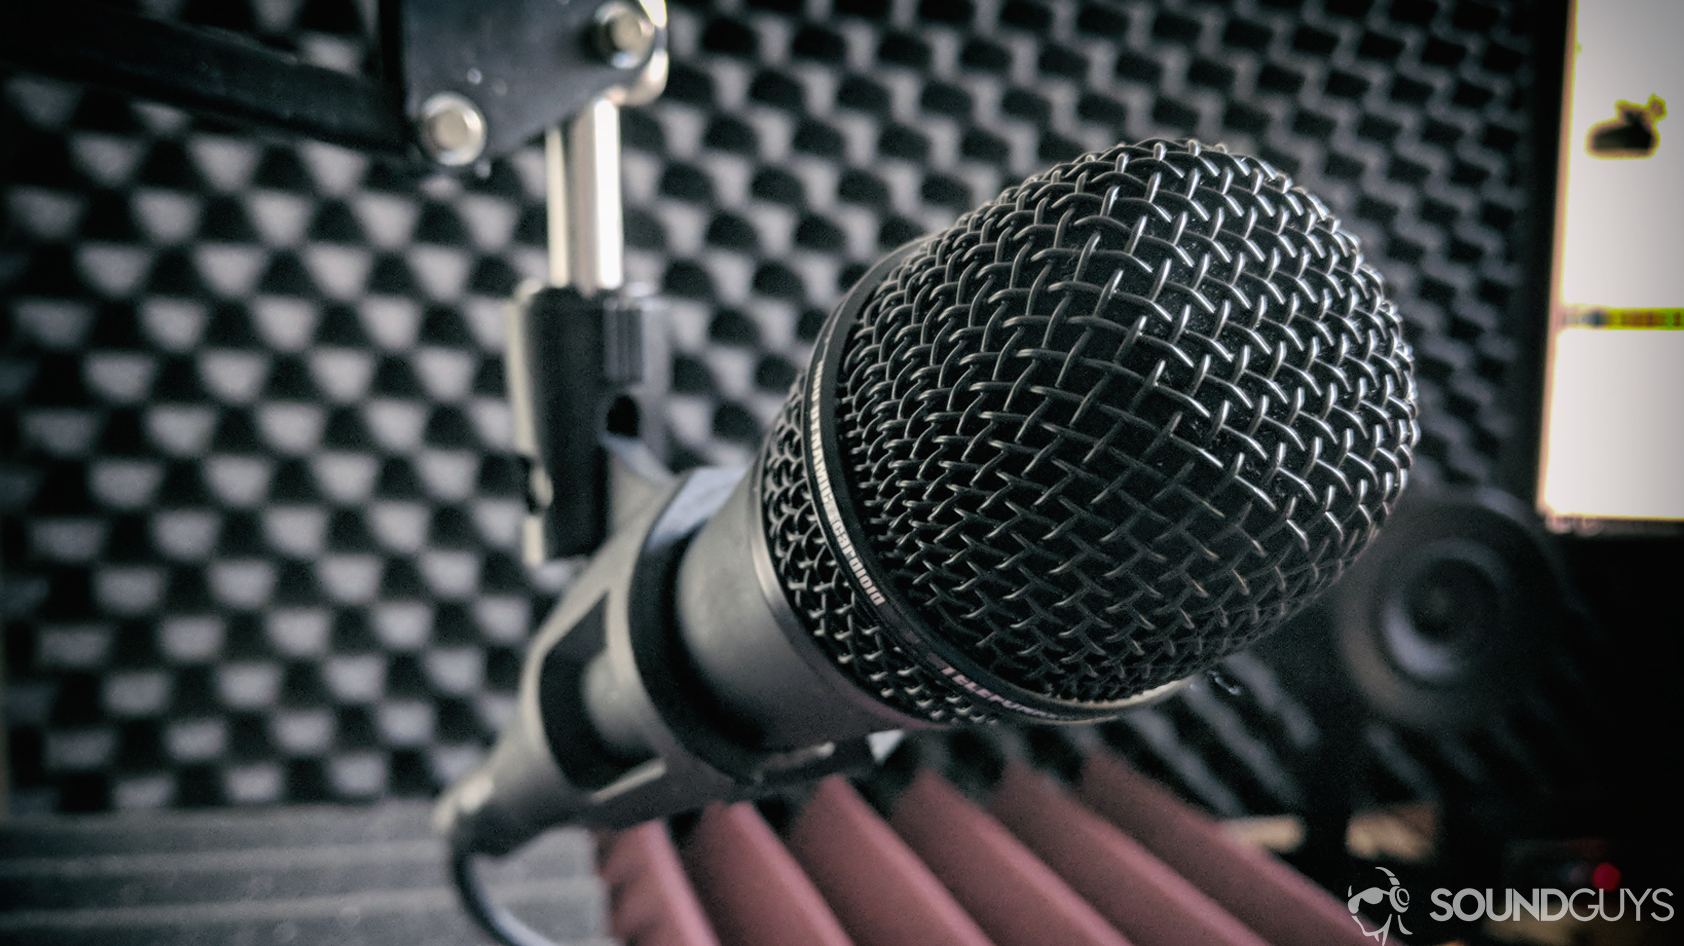microphone: (429, 132, 1428, 869)
